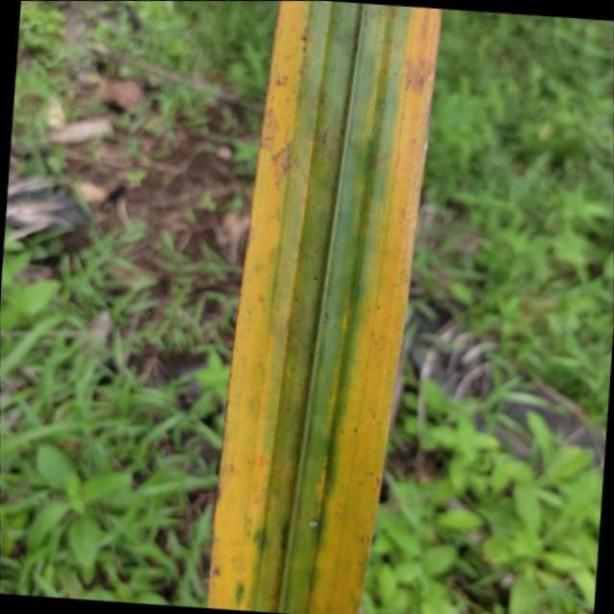Megnesium: (203, 0, 438, 614)
